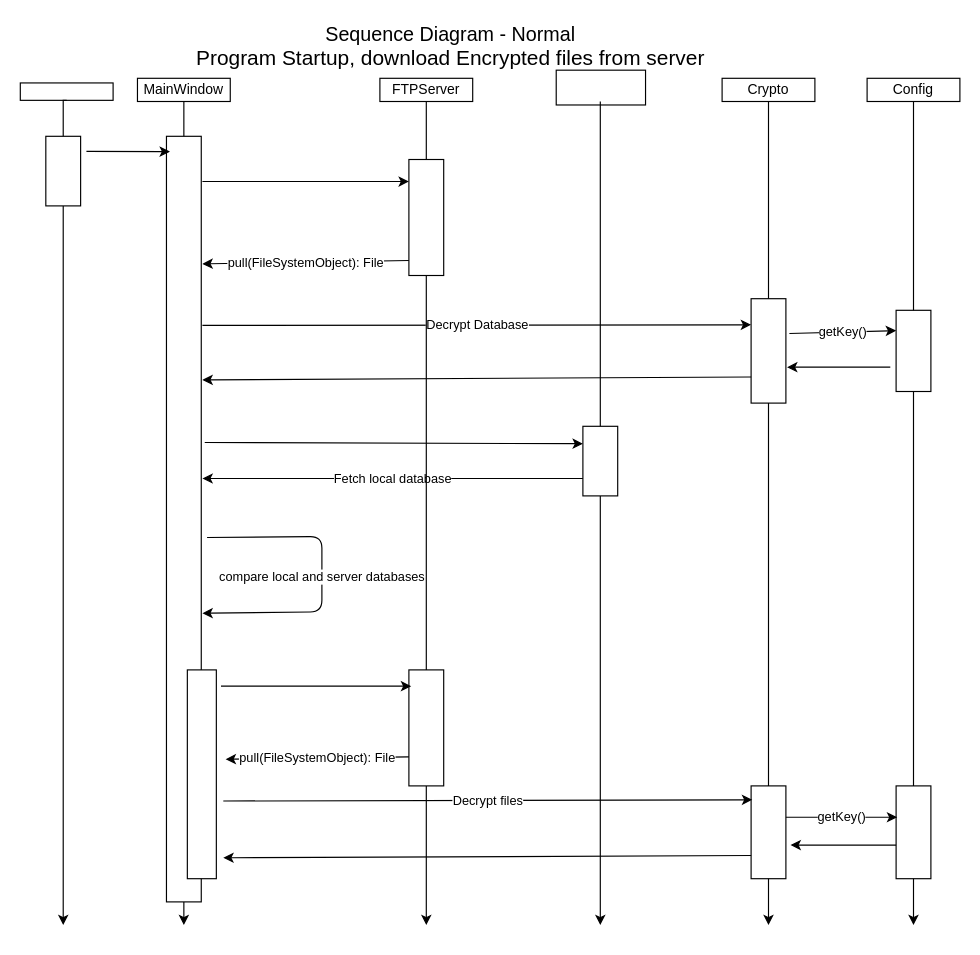
The diagram is 980 pixels wide and 955 high, and some of its shapes have lost their labels. Here are the shapes that lost their labels. From the top down, the box of each, then its label:
(19, 82, 113, 100): User: actor
(555, 69, 646, 105): Database (local)
